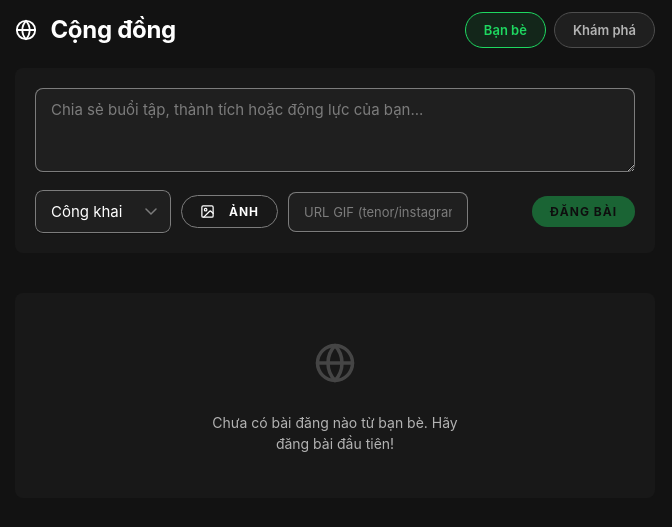
Scenario: CommunityFeedPage — đăng bài › hiển thị lỗi server khi đăng thất bại
Type "quá dài" into the text box with placeholder "Chia sẻ buổi tập, thành tích hoặc động lực của bạn...".
click(335, 130); type("quá dài")  # box [35,88,635,172]
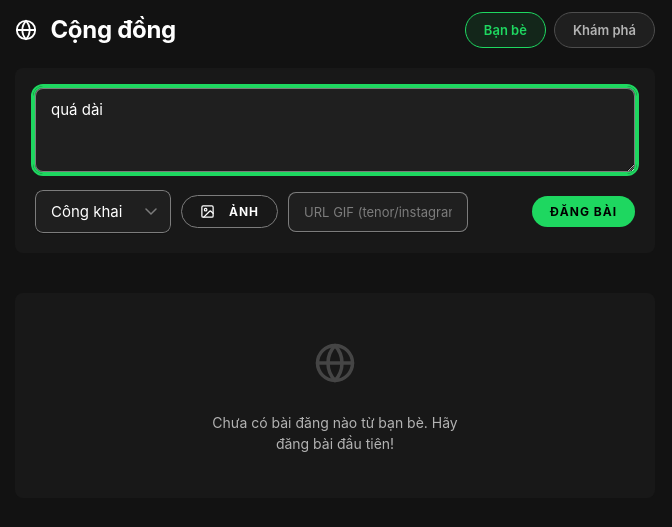
Click the button "Đăng bài".
click(583, 212)  # box [532,196,635,227]
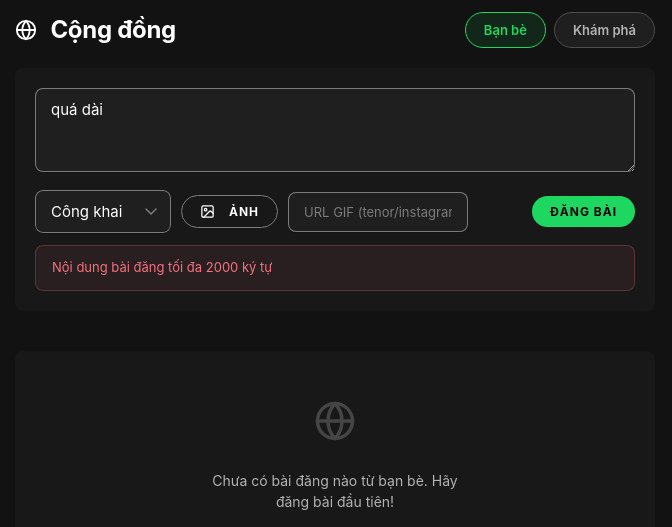
Now the text "Nội dung bài đăng tối đa 2000 ký tự" is shown, box [35,245,635,290]
